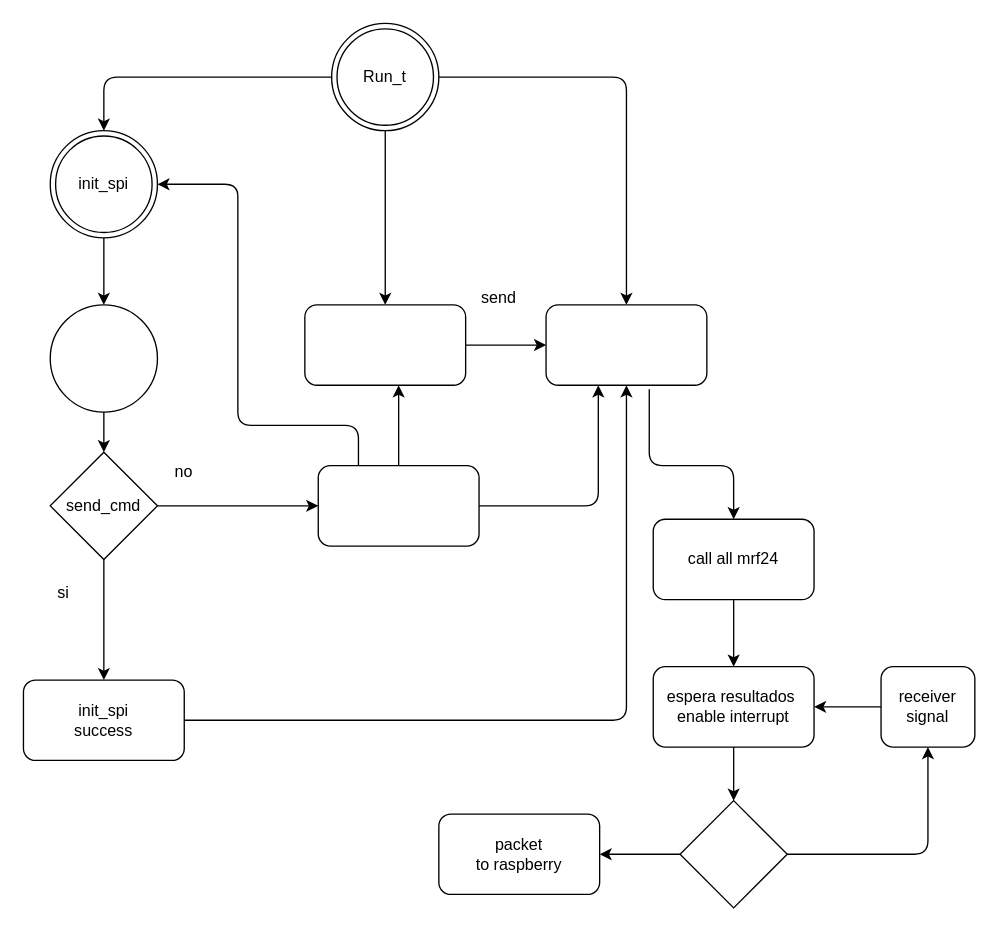
The diagram is 998 pixels wide and 931 high, and some of its shapes have lost their labels. Each missing label, with the centre of its shape:
call delete: the point at 398,505
Class_Mrf24_config: the point at 626,344
send_cmd_mrf: the point at 103,358
Struct Packet_t: the point at 385,344
